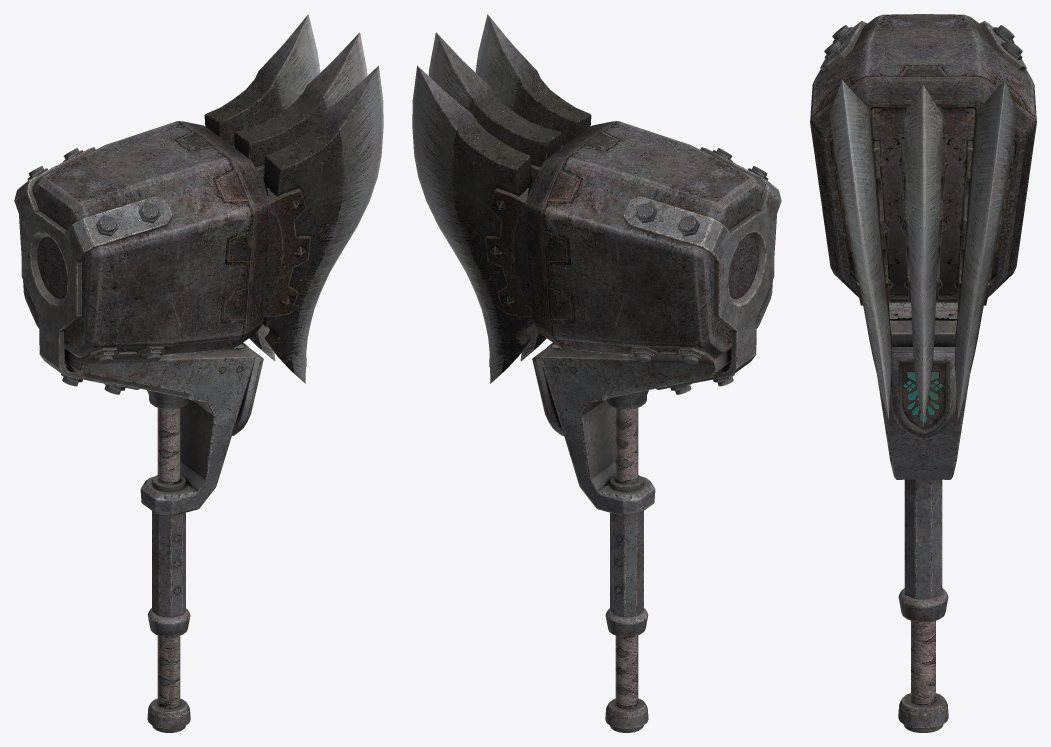
The model's file is bs_ham008.obj.
The picture shows the model from 3 angles, left to right: view 1: azimuth 30°, elevation 25°; view 2: azimuth 150°, elevation 25°; view 3: azimuth 270°, elevation 25°; orthographic projection. The views are drawn at different scales.
Visible parts, largest first — view 1: bs_ham008_001_LOD_1, bs_ham008_000_LOD_1; view 2: bs_ham008_001_LOD_1, bs_ham008_000_LOD_1; view 3: bs_ham008_001_LOD_1, bs_ham008_000_LOD_1.
Part boxes in pixels (x1,y1,x2,y2): bs_ham008_001_LOD_1: (19, 14, 383, 383); bs_ham008_000_LOD_1: (14, 147, 263, 732); bs_ham008_001_LOD_1: (412, 14, 776, 383); bs_ham008_000_LOD_1: (532, 147, 781, 732); bs_ham008_001_LOD_1: (810, 14, 1036, 426); bs_ham008_000_LOD_1: (820, 21, 1026, 732).
Size of the model in its own units: 97.74 by 189 by 51.94.
